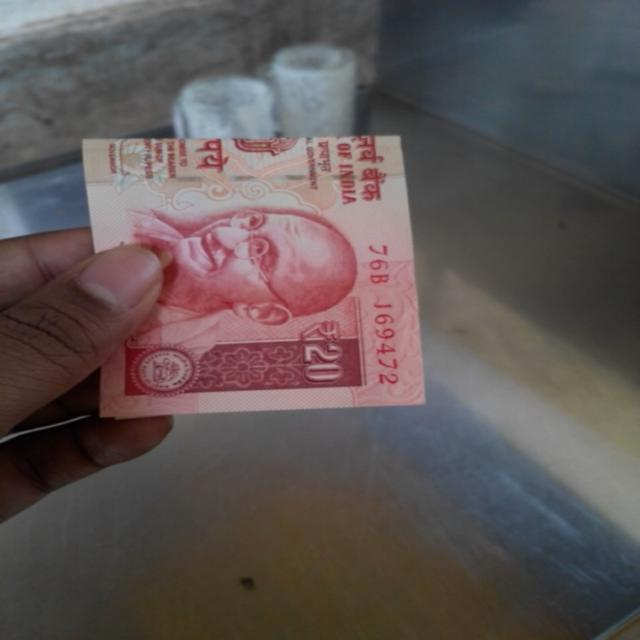20rs: (86, 142, 418, 404)
